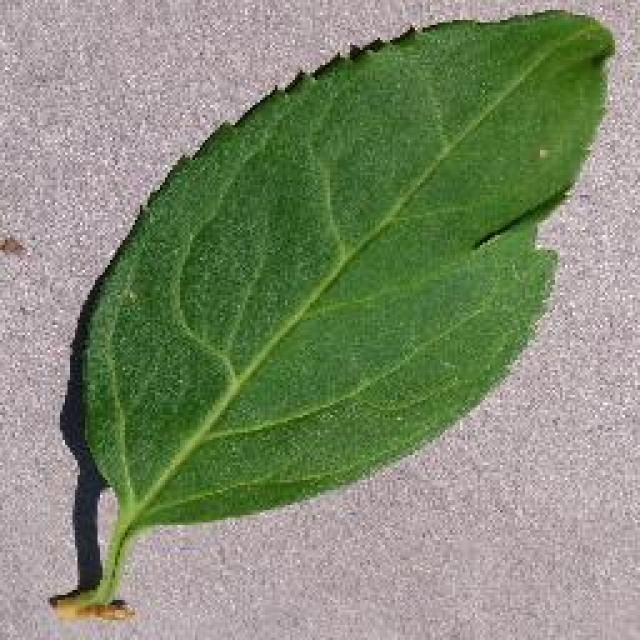Cherry___healthy: (50, 3, 628, 635)
